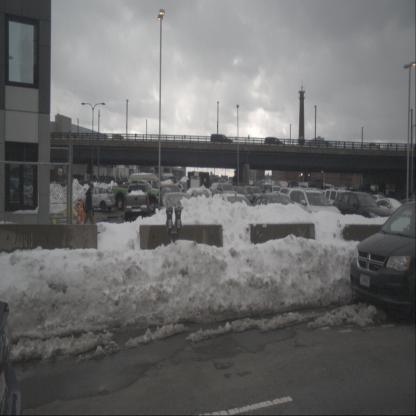cone: (76, 199, 82, 246), (80, 199, 85, 246)
